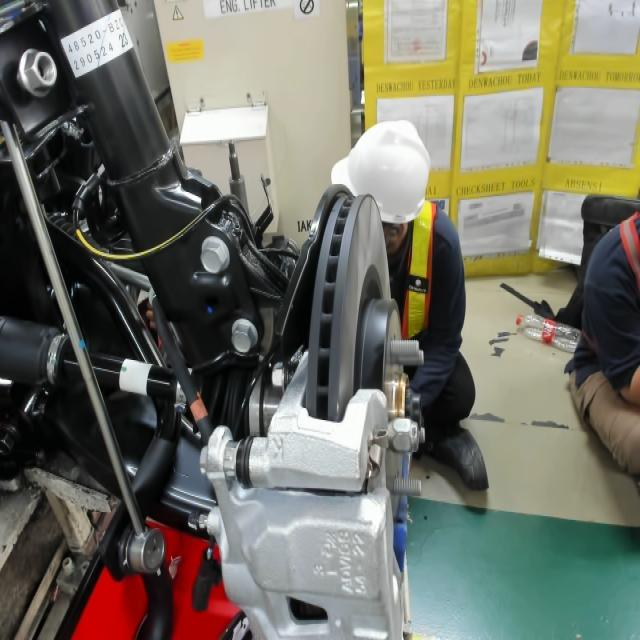Absorber LH-23: (114, 30, 134, 55)
Disc-HT: (347, 256, 408, 393)
Drive Shaft-PT: (115, 353, 154, 397)
